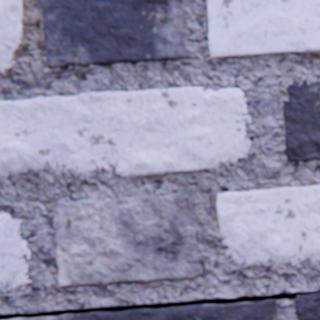brick: (0, 88, 251, 178), (54, 193, 201, 286), (43, 0, 186, 68), (217, 186, 319, 264), (208, 0, 319, 59), (10, 299, 276, 319), (284, 82, 319, 162), (0, 212, 32, 289), (0, 0, 23, 73), (296, 293, 319, 319)
crack: (0, 291, 319, 319)
